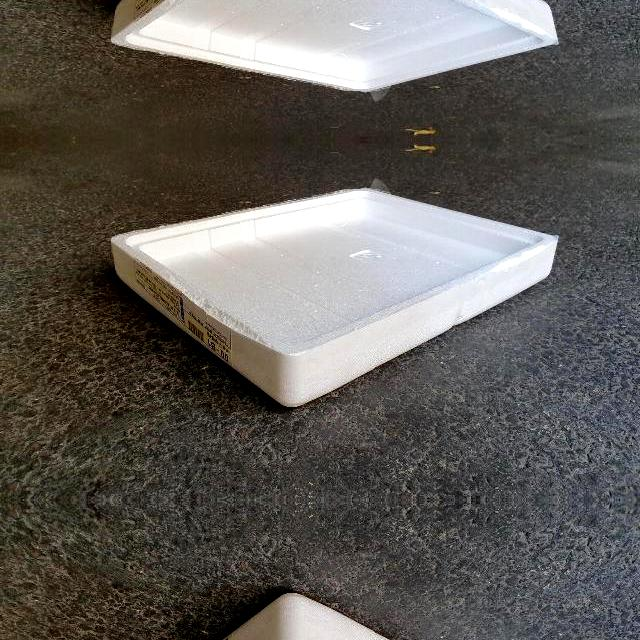Styrofoam: (110, 185, 558, 407), (111, 188, 558, 406), (109, 0, 558, 95), (111, 0, 558, 92), (109, 593, 558, 640)
